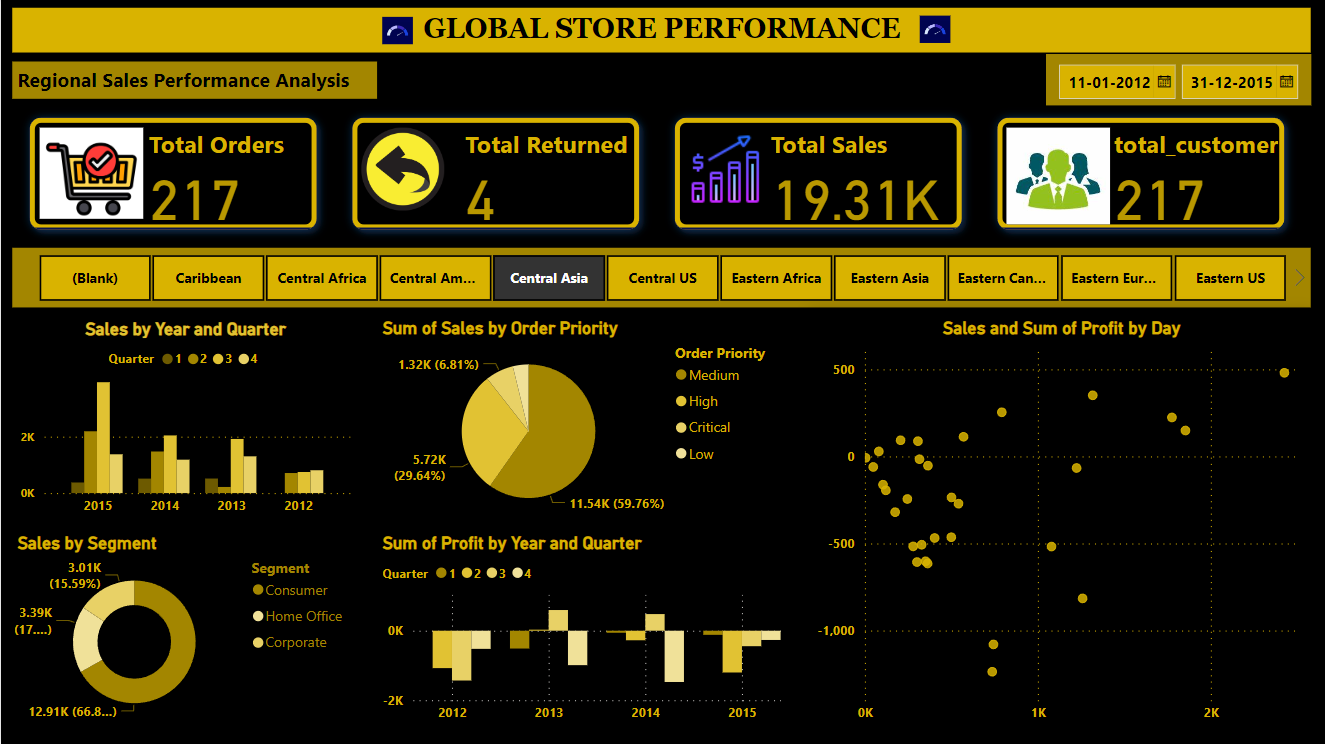

The page's visual inventory and layout, read from the dashboard file:
{"tool":"powerbi","page":{"name":"Global store performance  analysis","canvas":[1280,720],"ordinal":0},"visuals":[{"type":"cardVisual","fields":{"Data":["Orders.Total Orders","Orders.Total Returned","Orders.Total Sales","Orders.total_customer"]},"box":[10.9,97.7,1245.8,142.3],"z":0},{"type":"textbox","box":[10.9,8.4,1253.1,43.4],"z":1000},{"type":"image","box":[881.6,7.2,39.8,44.6],"z":2000},{"type":"textbox","box":[10.9,60.3,352.2,36.2],"z":3000},{"type":"image","box":[363,8.4,39.8,44.6],"z":4000},{"type":"slicer","fields":{"Values":["Orders.Order Date"]},"box":[1008.2,53.1,255.7,49.4],"z":5000},{"type":"slicer","fields":{"Values":["People.Region"]},"box":[10.9,240,1253.1,57.9],"z":6000},{"type":"clusteredColumnChart","title":"Sales by Year and Quarter","fields":{"Category":["Orders.Year"],"Y":["Sum(Orders.Sales)"],"Series":["Orders.Quarter"]},"box":[10.9,306.3,332.9,200.2],"z":7000},{"type":"clusteredColumnChart","fields":{"Series":["Orders.Quarter"],"Y":["Sum(Orders.Profit)"],"Category":["Orders.Year"]},"box":[363,515,394.4,191.8],"z":8000},{"type":"scatterChart","title":"Sales and Sum of Profit by Day","fields":{"X":["Sum(Orders.Sales)"],"Y":["Sum(Orders.Profit)"],"Category":["Orders.Order Date.Variation.Date Hierarchy.Day"]},"box":[782.7,307.5,481.2,399.2],"z":9000},{"type":"donutChart","title":"Sales by Segment","fields":{"Category":["Orders.Segment"],"Y":["Sum(Orders.Sales)"]},"box":[10.9,515,332.9,191.8],"z":10000},{"type":"pieChart","fields":{"Category":["Orders.Order Priority"],"Y":["Sum(Orders.Sales)"]},"box":[363,307.5,394.4,200.2],"z":11000}]}

Visuals, with their boxes in screenshot pixels (x1, y1, x2, y2), scaled from the page's 1280x720 canvas onto the 1325x744 screenshot:
cardVisual - Orders.Total Orders x Orders.Total Returned: 11/101/1301/248
textbox: 11/9/1308/54
image: 913/7/954/54
textbox: 11/62/376/100
image: 376/9/417/55
slicer - Orders.Order Date: 1044/55/1308/106
slicer - People.Region: 11/248/1308/308
"Sales by Year and Quarter" clusteredColumnChart: 11/317/356/523
clusteredColumnChart - Orders.Quarter x Sum(Orders.Profit): 376/532/784/730
"Sales and Sum of Profit by Day" scatterChart: 810/318/1308/730
"Sales by Segment" donutChart: 11/532/356/730
pieChart - Orders.Order Priority x Sum(Orders.Sales): 376/318/784/525
